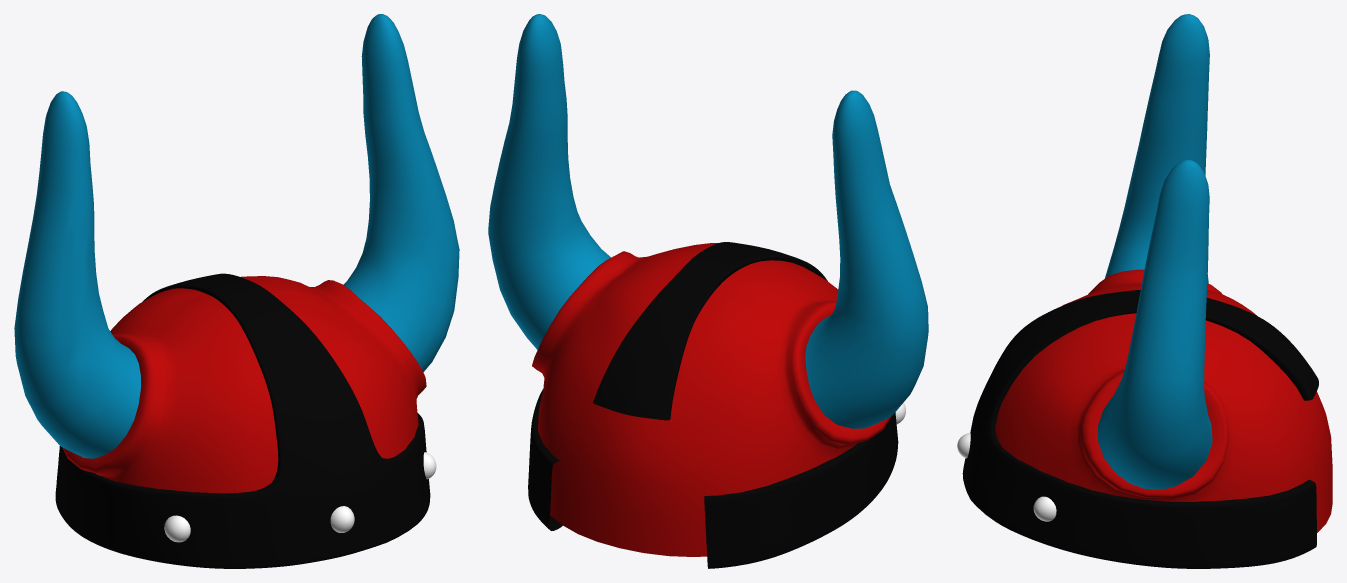
Rendered from viking_helmet.fbx.
The picture shows the model from 3 angles, left to right: view 1: azimuth 30°, elevation 25°; view 2: azimuth 150°, elevation 25°; view 3: azimuth 270°, elevation 25°; orthographic projection. The views are drawn at different scales.
Parts seen in each view (by area): view 1: horns, metal_plate, base, screws; view 2: base, horns, metal_plate; view 3: horns, base, metal_plate, screws.
Boxes of the visible parts, x1=… form: horns: x1=14, y1=14, x2=459, y2=458; metal_plate: x1=55, y1=273, x2=430, y2=568; base: x1=62, y1=276, x2=426, y2=493; screws: x1=164, y1=452, x2=436, y2=542; base: x1=532, y1=243, x2=893, y2=556; horns: x1=488, y1=14, x2=928, y2=428; metal_plate: x1=528, y1=242, x2=898, y2=568; horns: x1=1098, y1=14, x2=1212, y2=489; base: x1=995, y1=269, x2=1332, y2=532; metal_plate: x1=962, y1=290, x2=1318, y2=568; screws: x1=957, y1=433, x2=1056, y2=521.
Size of the model in its own units: 27.19 by 27.16 by 21.75.
